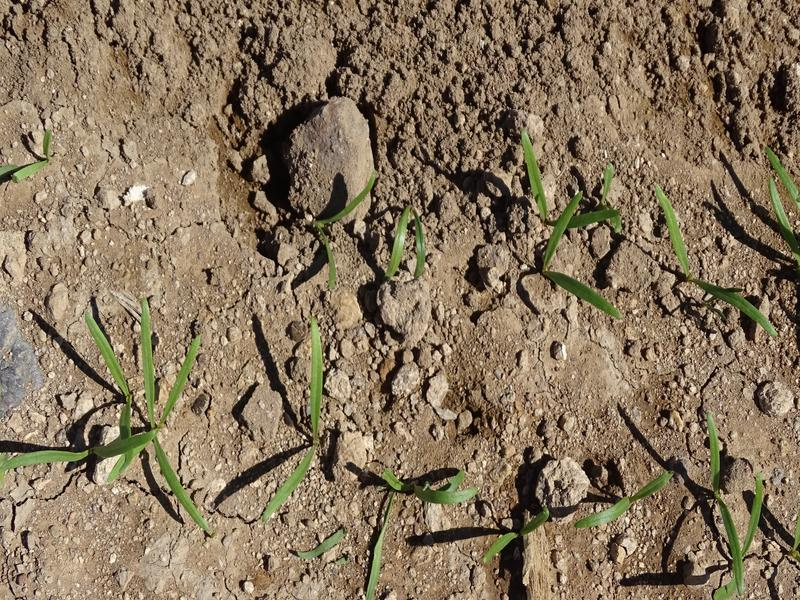Espinaca: (58, 301, 214, 532), (516, 132, 629, 318), (651, 185, 779, 334), (360, 468, 474, 596), (262, 316, 326, 515), (698, 425, 769, 596), (313, 176, 379, 287), (579, 471, 669, 536), (483, 510, 550, 556), (767, 148, 800, 240), (391, 209, 433, 273)
